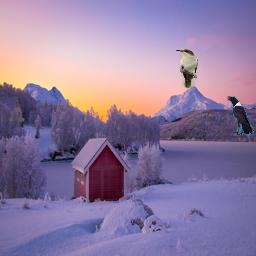Crow: (227, 96, 254, 136)
Cuckoo: (176, 49, 198, 89)
